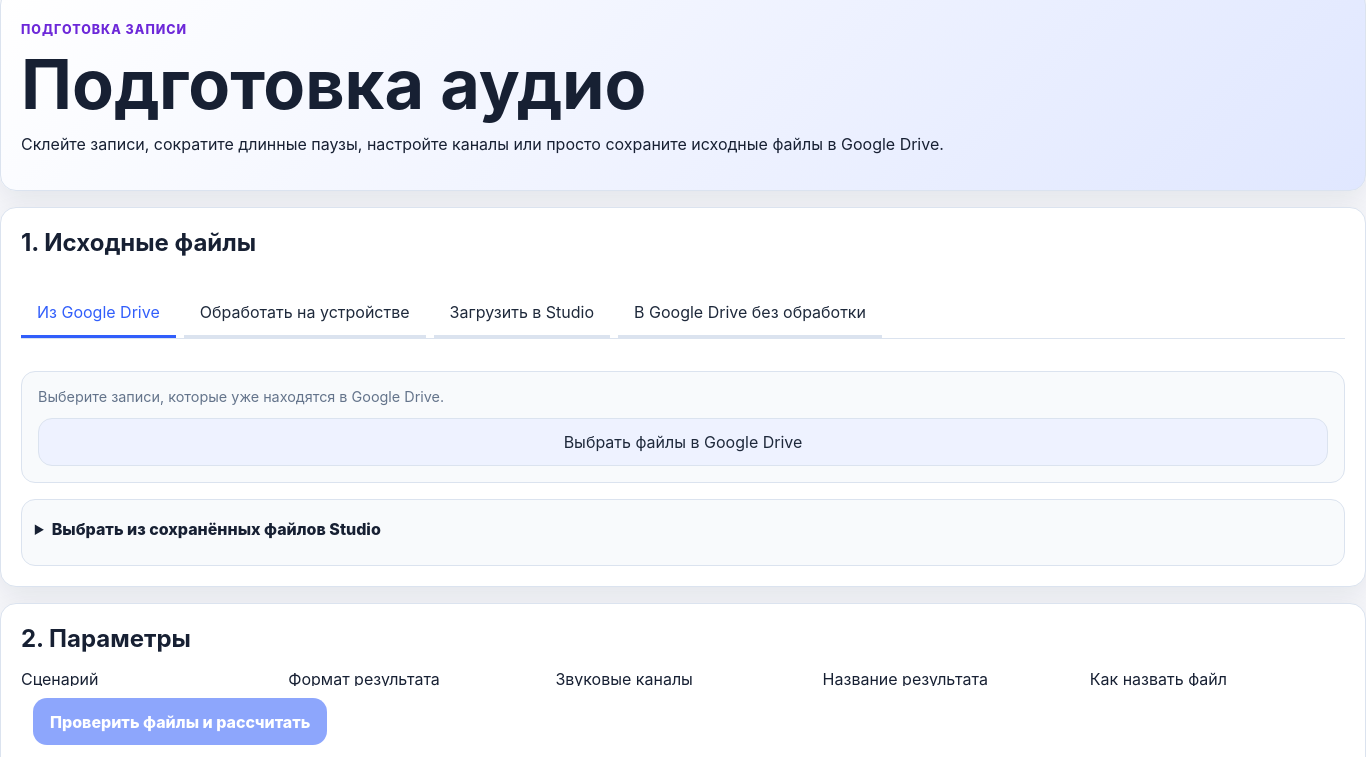
Scenario: AudioPreparationPage › exposes keyboard-accessible source tabs and isolates direct Drive upload from processing controls
Check: the heading "Подготовка аудио" is shown, box [21,43,646,125]
Step 1. Click the tab "В Google Drive без обработки" → (750, 314), box [618,289,882,338]
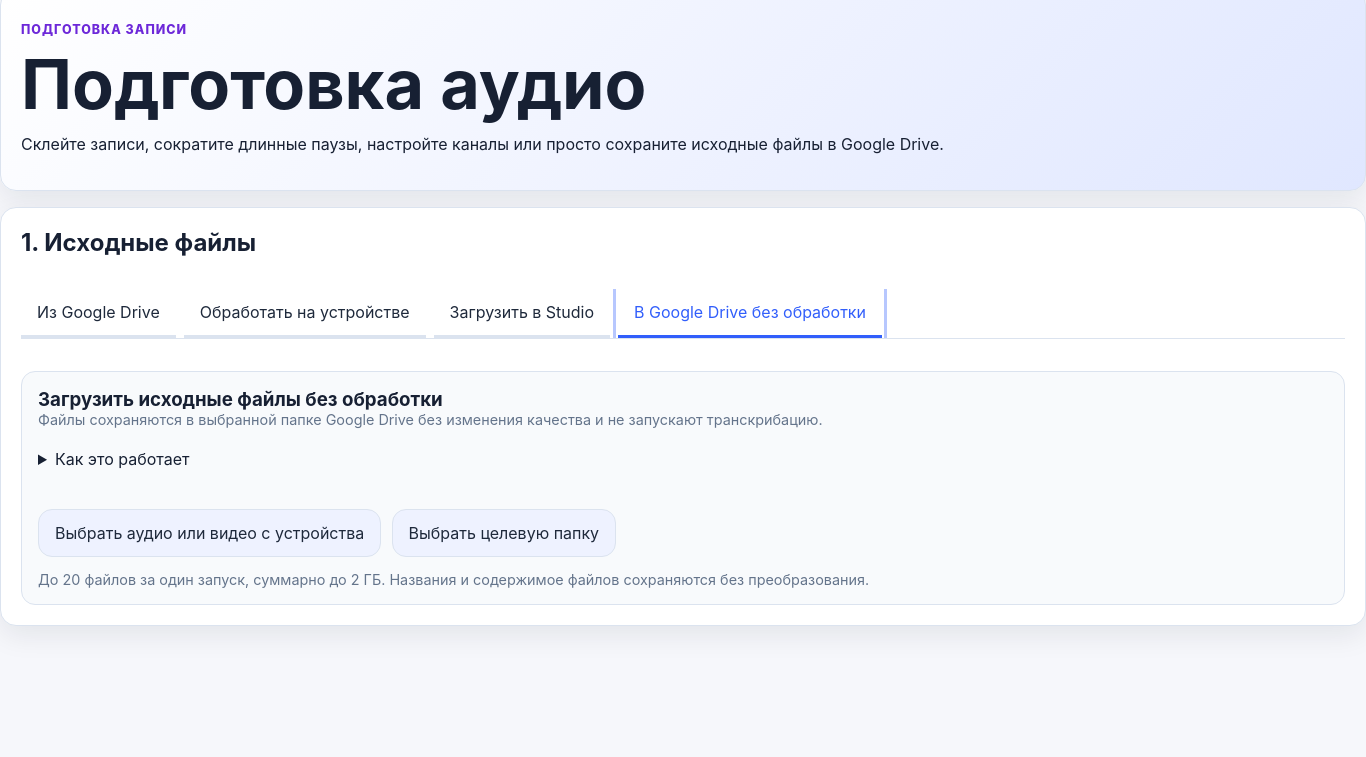
Check: the heading "Загрузить исходные файлы без обработки" is shown, box [38,388,443,411]
Check: the heading "2. Параметры" is gone
Step 2. Press Arrowleft
(page scrolled)
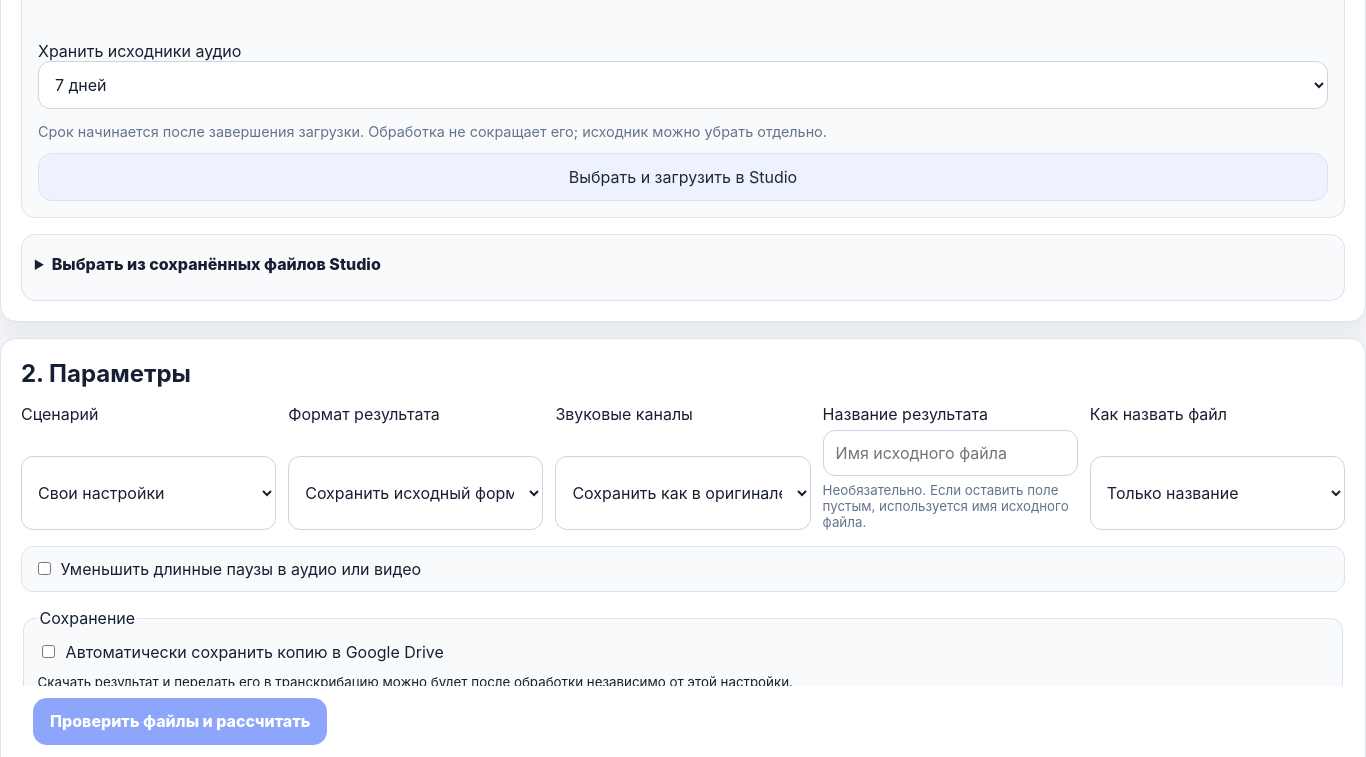
Check: the heading "2. Параметры" is shown, box [21,359,191,388]
